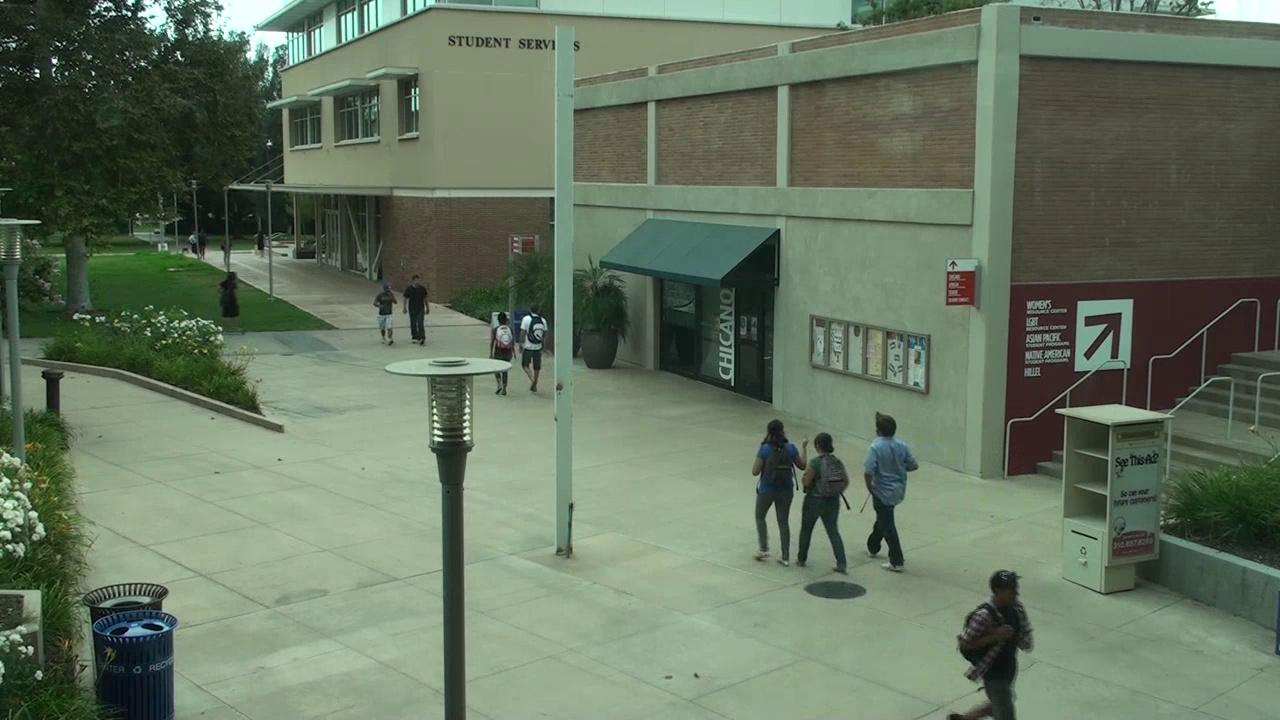person: (948, 569, 1033, 719), (864, 415, 918, 571), (753, 419, 806, 564), (517, 304, 548, 391), (815, 455, 848, 496), (490, 312, 514, 360), (495, 373, 507, 394), (222, 237, 230, 264)
